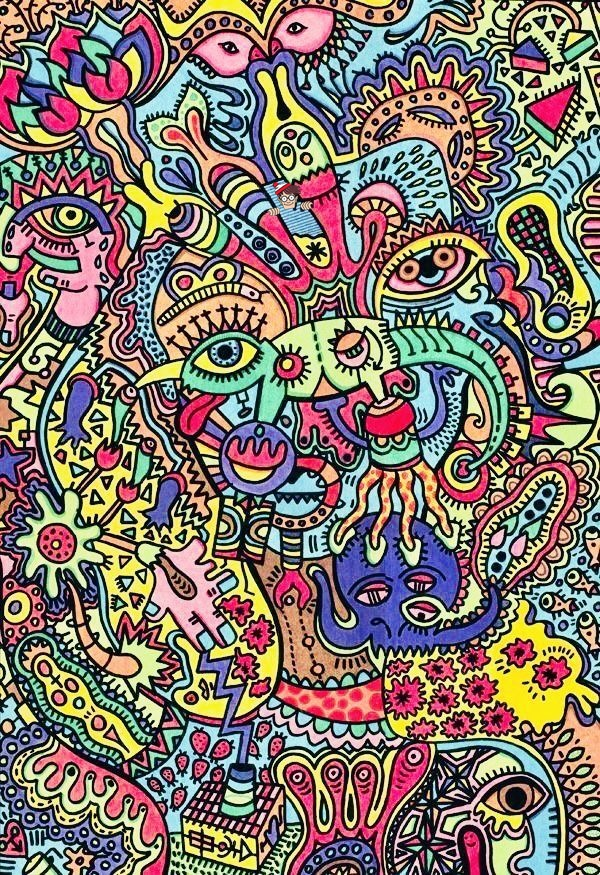waldo: (267, 182, 313, 216)
